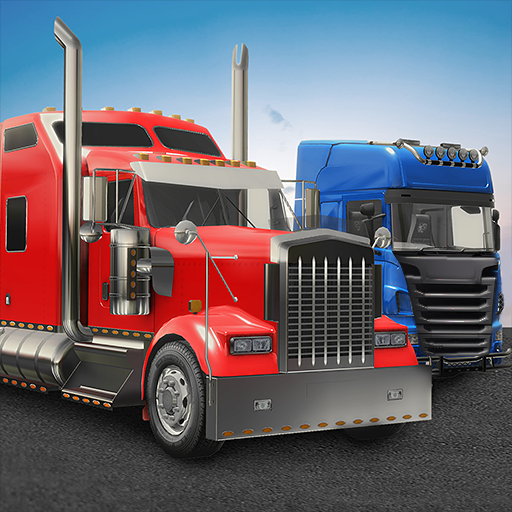truck: (1, 107, 430, 458), (293, 140, 512, 373)
